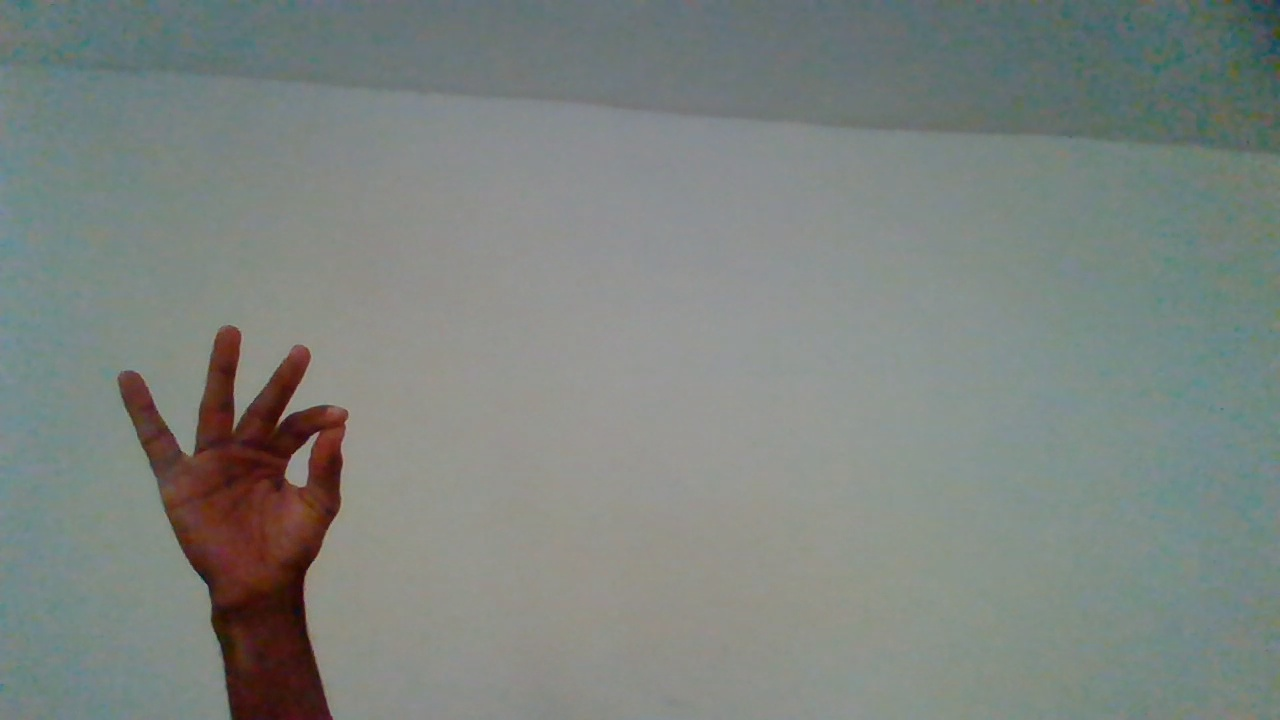le: (112, 327, 344, 707)
